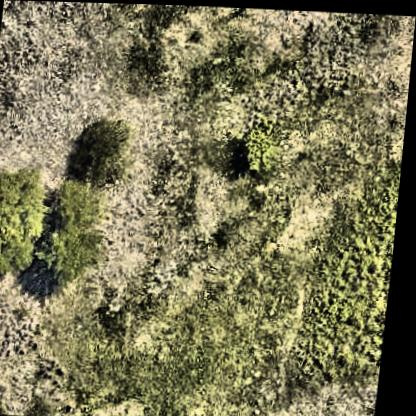tree-top: (45, 182, 116, 279), (0, 166, 55, 281), (64, 116, 134, 182), (236, 117, 292, 175), (0, 376, 6, 414)
